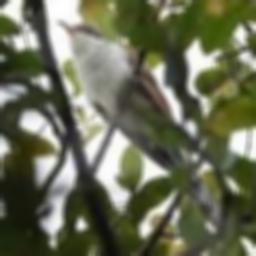Cuckoo: (58, 19, 224, 227)
